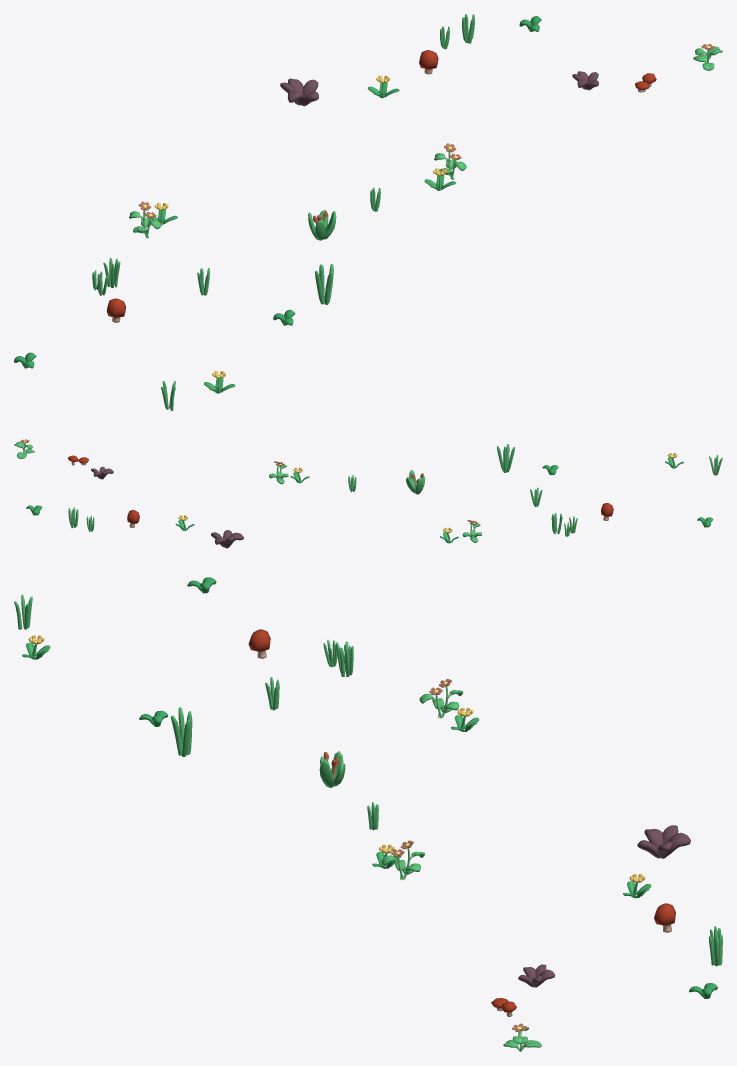
The model's file is customroadfirst.gltf.
3 views of the same model, one above another, from view 1: azimuth 30°, elevation 25°; view 2: azimuth 150°, elevation 25°; view 3: azimuth 270°, elevation 25° (orthographic). The views are drawn at different scales.
Parts seen in each view (by area): view 1: Plant_B_02_LOD1_Mat_Nature_0; view 2: Plant_B_02_LOD1_Mat_Nature_0, Grass_B_02_LOD1_Mat_Nature_0.001, Plant_A_01_LOD1_Mat_Nature_0, Flora_A_01_LOD1_Mat_Nature_0.001, Flora_A_03_LOD1_Mat_Nature_0.001, Flora_A_03_LOD1_Mat_Nature_0; view 3: Plant_B_02_LOD1_Mat_Nature_0.
Boxes of the visible parts, <box> form: Plant_B_02_LOD1_Mat_Nature_0: <box>280,78,318,106</box>; Plant_B_02_LOD1_Mat_Nature_0: <box>211,530,243,548</box>; Grass_B_02_LOD1_Mat_Nature_0.001: <box>497,443,515,472</box>; Plant_A_01_LOD1_Mat_Nature_0: <box>406,469,425,494</box>; Flora_A_01_LOD1_Mat_Nature_0.001: <box>14,439,34,458</box>; Flora_A_03_LOD1_Mat_Nature_0.001: <box>269,461,288,484</box>; Flora_A_03_LOD1_Mat_Nature_0: <box>462,520,481,542</box>; Plant_B_02_LOD1_Mat_Nature_0: <box>637,825,690,858</box>.
Size of the model in its own units: 130 by 5.67 by 82.28.
18 materials, 18 textured.
